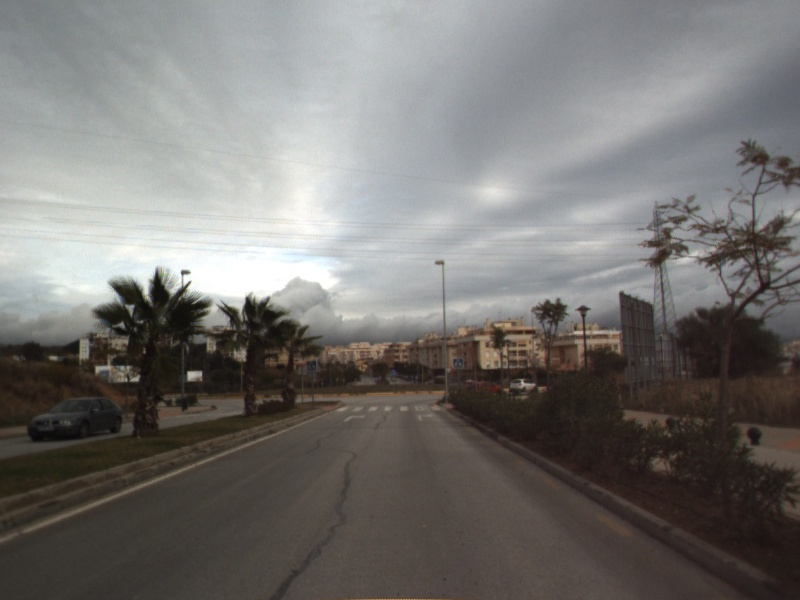RIGHT: (341, 412, 369, 424), (415, 411, 436, 423)
